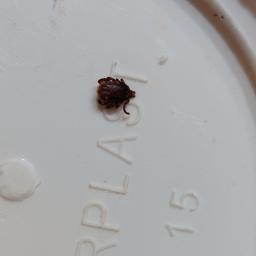Rhipicephalus sanguineus: (97, 78, 137, 116)
